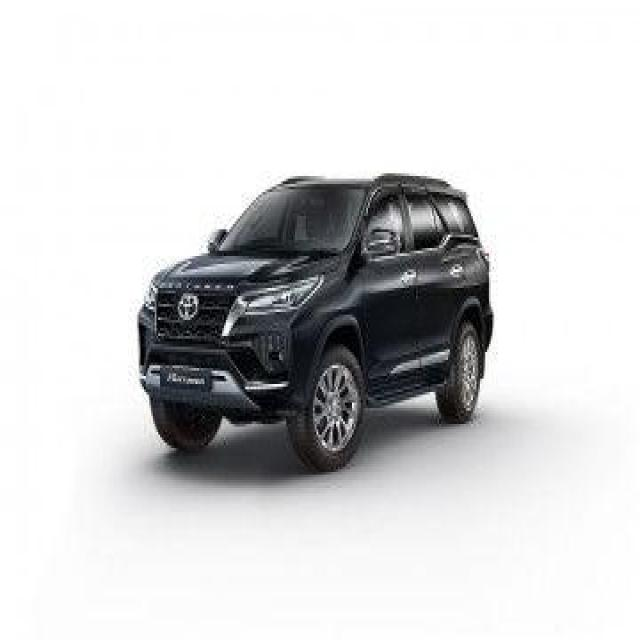cars15: (135, 170, 496, 468)
